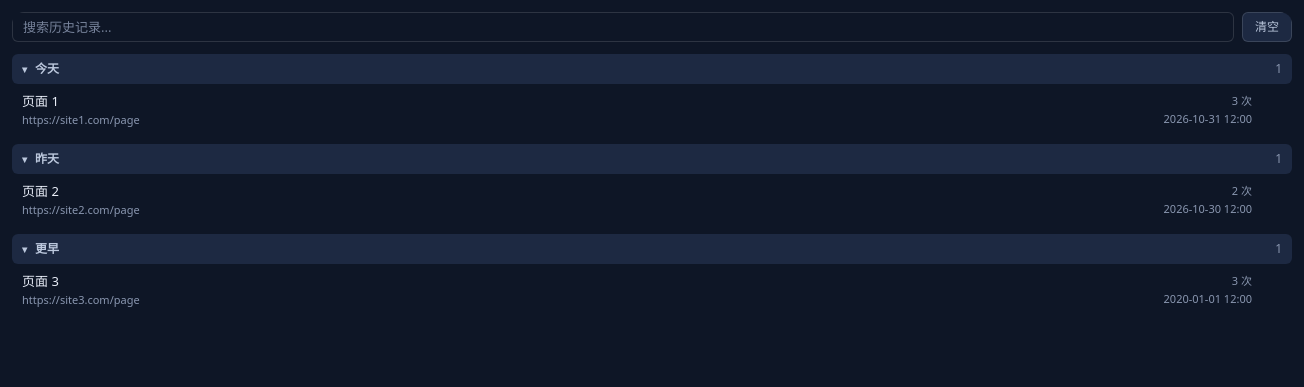
Test case: HistoryDialog：操作 › 清空流：确认 → clear_history + 列表清空 + toast「历史已清空」
Click the button with class "clear-btn" at (1267, 27), box x1=1242 y1=12 x2=1292 y2=42
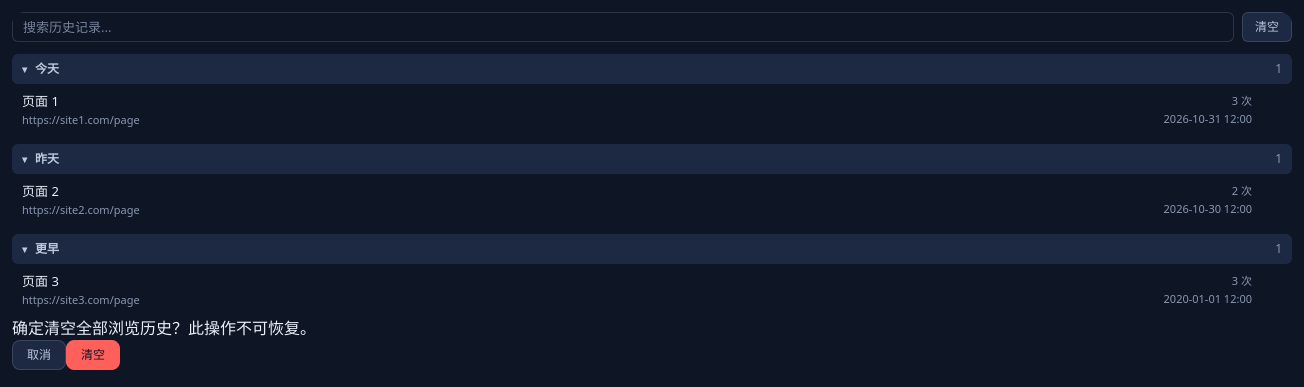
Click the button with class "confirm-btn" below "确定清空全部浏览历史？此操作不可恢复。" at (93, 355), box x1=66 y1=340 x2=120 y2=370
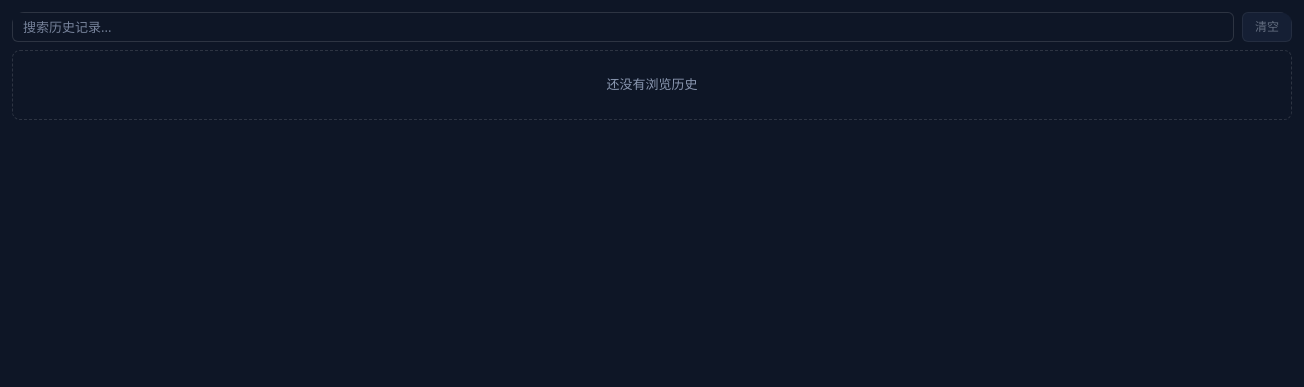
Expected: the text with class "empty" reads "还没有浏览历史", x1=606 y1=75 x2=698 y2=93
